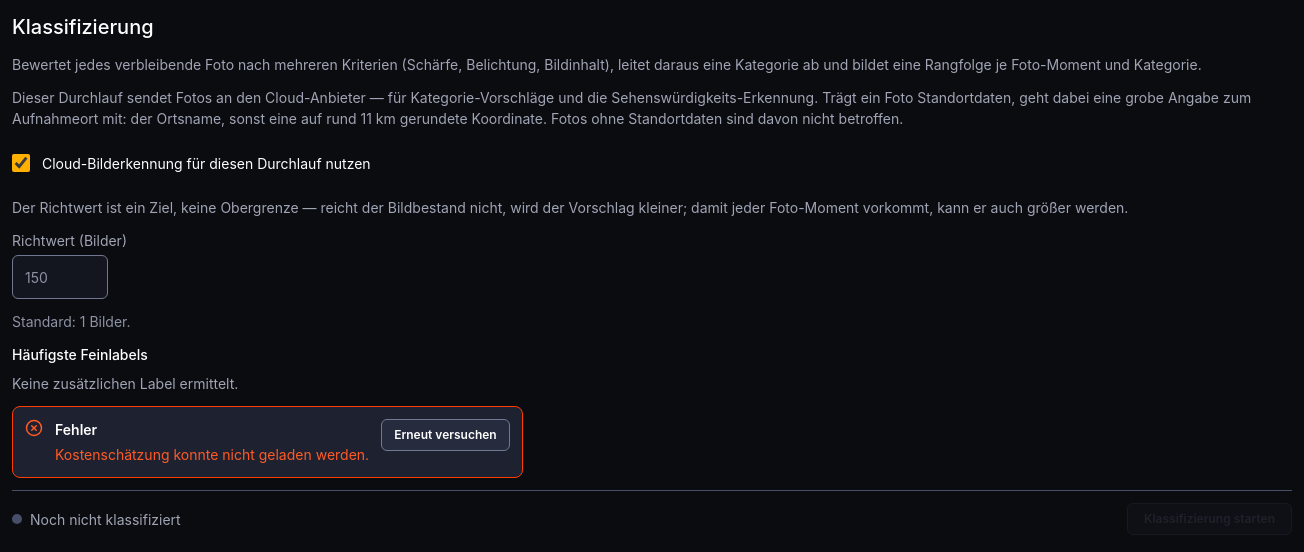
Kosten sichtbar vor dem Start › blocks the cloud run while the estimate cannot be loaded, but allows the local one
The width and height of the screenshot is (1304, 552).
Expected: the button "Klassifizierung starten" is disabled, [1127, 503, 1292, 535]
Click the checkbox labelled "Cloud-Bilderkennung für diesen Durchlauf nutzen" at (21, 163), box [12, 154, 30, 172]
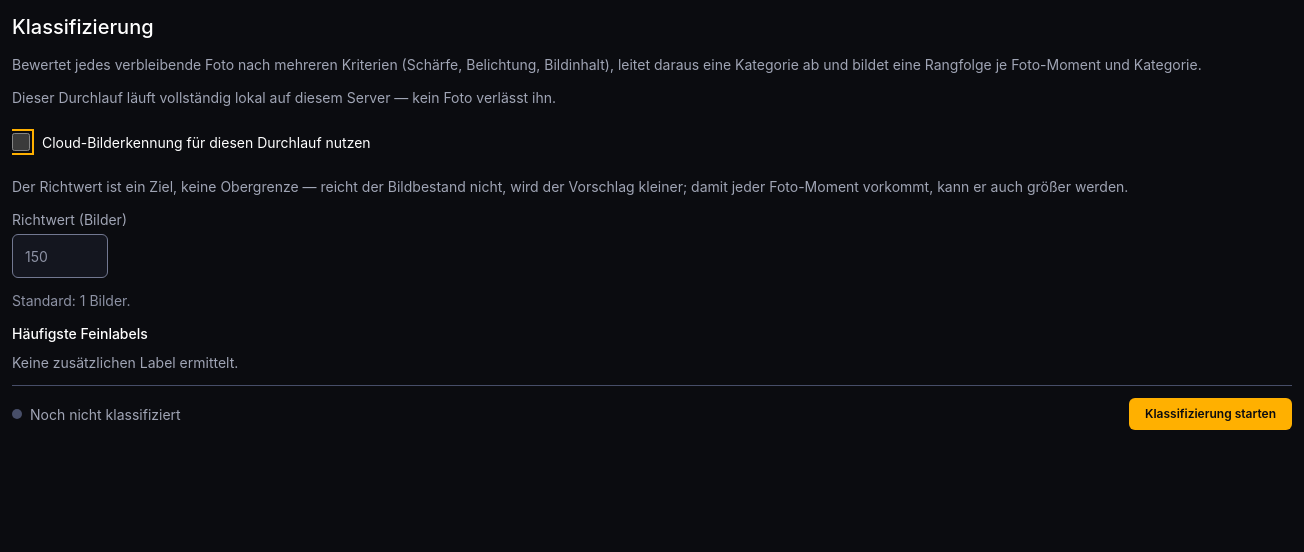
Now the button "Klassifizierung starten" is enabled, box [1129, 398, 1292, 430]
